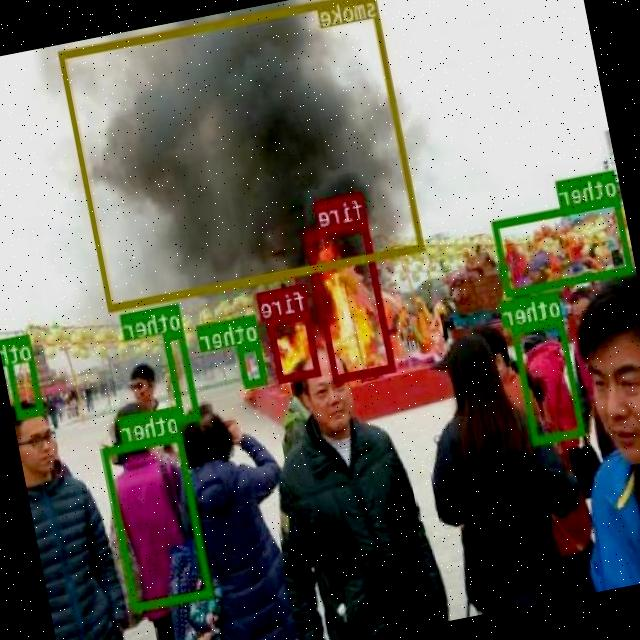fire: (304, 218, 398, 382), (268, 310, 322, 382)
smoke: (59, 0, 426, 311)
